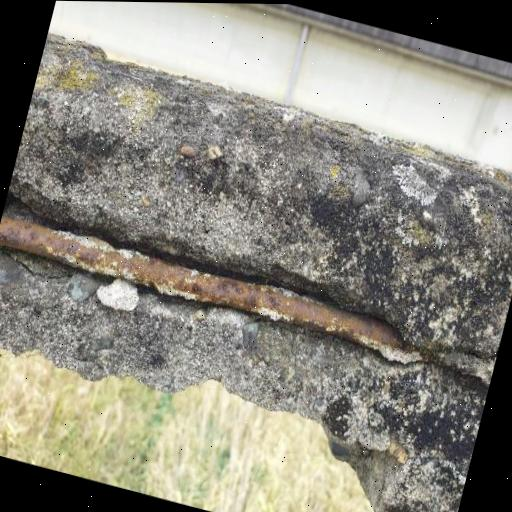exposed_rebar: (0, 215, 489, 394)
